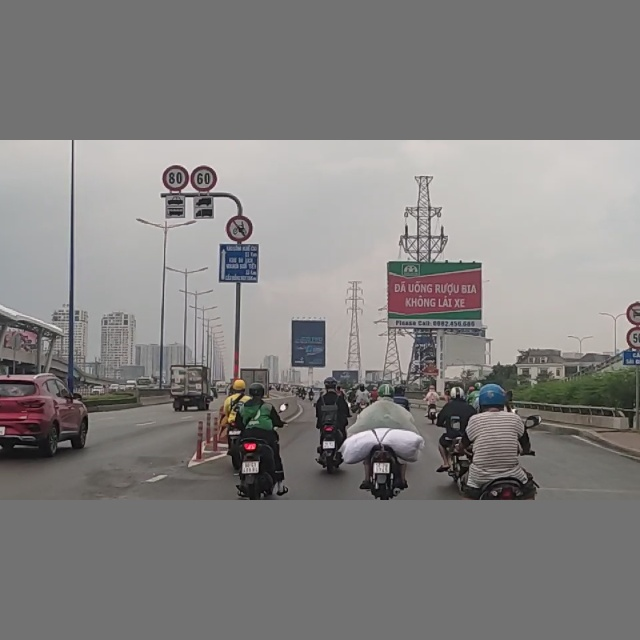P.104: (225, 213, 254, 245)
P.127*60: (191, 166, 217, 192)
P.127*80: (163, 164, 189, 192)
